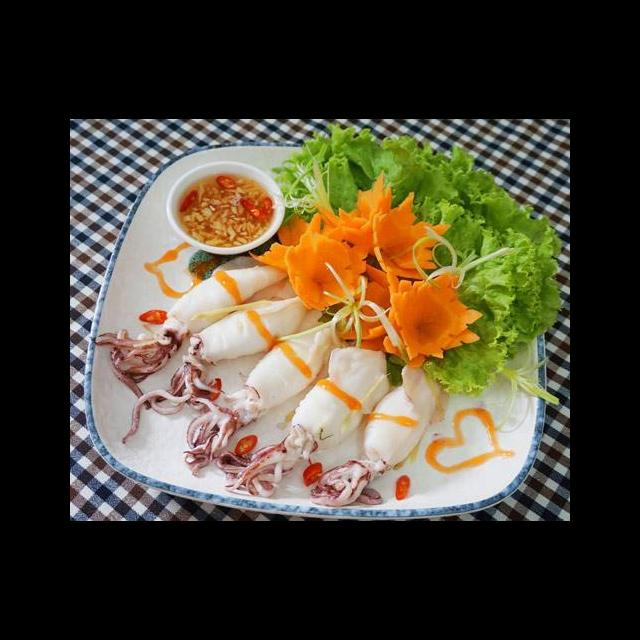muc: (118, 277, 330, 446), (87, 250, 294, 412), (214, 335, 395, 499), (177, 313, 343, 480), (304, 353, 447, 511)
